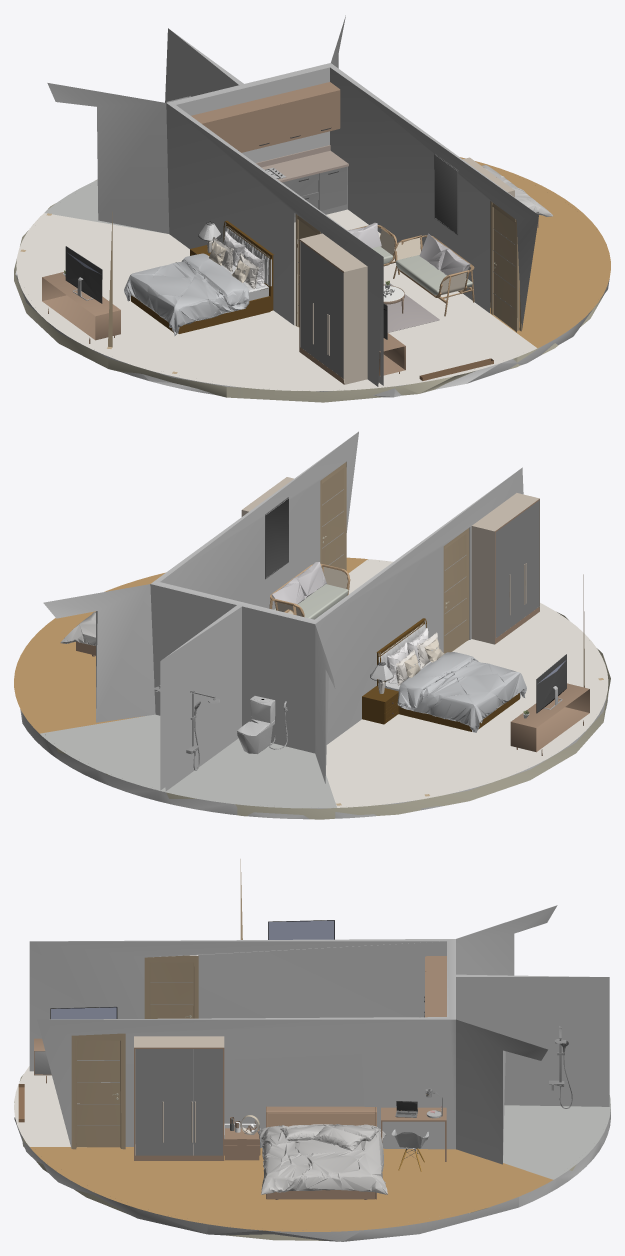
The model's file is layout-b.glb.
The picture shows the model from 3 angles, top to bottom: view 1: azimuth 30°, elevation 25°; view 2: azimuth 150°, elevation 25°; view 3: azimuth 270°, elevation 25°; orthographic projection.
Parts seen in each view (by area): view 1: SKP Vertex Colors, [Basic Tile]1, Material~1, [Wood Floor Parquet], _auto_5, [0037_SandyBrown], layout-b, [Wood_Cherry_Original]4, [Granite Brown]1, par400plat_top-696x1030.jpg, rotan, [Blinds_Cellular_White] (+2 smaller); view 2: SKP Vertex Colors, [Basic Tile]1, layout-b, [Wood Floor Parquet], _auto_5, [0037_SandyBrown], Material~1, [Wood_Cherry_Original]4, [Blinds_Cellular_White], bed 1, rotan, bed 2; view 3: SKP Vertex Colors, [Wood Floor Parquet], layout-b, Material~1, [Basic Tile]1, [0037_SandyBrown].
Boxes of the visible parts, bbox=[...] form: SKP Vertex Colors: bbox=[14, 15, 609, 402]; [Basic Tile]1: bbox=[16, 209, 537, 391]; Material~1: bbox=[42, 82, 538, 384]; [Wood Floor Parquet]: bbox=[460, 157, 610, 348]; _auto_5: bbox=[124, 253, 249, 336]; [0037_SandyBrown]: bbox=[299, 157, 514, 384]; layout-b: bbox=[44, 180, 474, 316]; [Wood_Cherry_Original]4: bbox=[131, 220, 273, 333]; [Granite Brown]1: bbox=[256, 145, 348, 182]; par400plat_top-696x1030.jpg: bbox=[386, 283, 439, 332]; rotan: bbox=[380, 229, 466, 294]; [Blinds_Cellular_White]: bbox=[223, 231, 264, 285]; SKP Vertex Colors: bbox=[20, 431, 610, 819]; [Basic Tile]1: bbox=[326, 559, 608, 807]; layout-b: bbox=[40, 563, 565, 808]; [Wood Floor Parquet]: bbox=[14, 557, 367, 733]; _auto_5: bbox=[397, 652, 526, 732]; [0037_SandyBrown]: bbox=[241, 477, 539, 644]; Material~1: bbox=[76, 499, 589, 755]; [Wood_Cherry_Original]4: bbox=[362, 618, 519, 731]; [Blinds_Cellular_White]: bbox=[387, 628, 428, 682]; bed 1: bbox=[396, 632, 438, 685]; rotan: bbox=[277, 567, 347, 616]; bed 2: bbox=[404, 638, 444, 677]; SKP Vertex Colors: bbox=[14, 905, 610, 1241]; [Wood Floor Parquet]: bbox=[30, 1147, 552, 1231]; layout-b: bbox=[51, 920, 610, 1179]; Material~1: bbox=[34, 956, 446, 1199]; [Basic Tile]1: bbox=[14, 1066, 70, 1146]; [0037_SandyBrown]: bbox=[134, 1036, 224, 1155].
Bounding box in the file's own units: 10.06 × 2.82 × 10.
